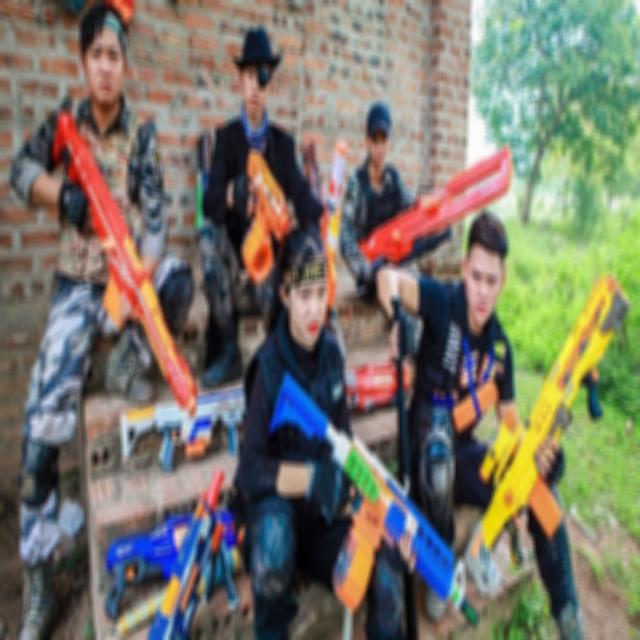Nerf gun: (460, 266, 630, 596), (263, 364, 477, 626), (47, 107, 199, 419), (354, 140, 526, 268), (102, 503, 244, 624), (148, 466, 230, 638), (117, 379, 247, 473), (234, 142, 290, 286), (336, 352, 416, 420), (319, 134, 346, 312)
